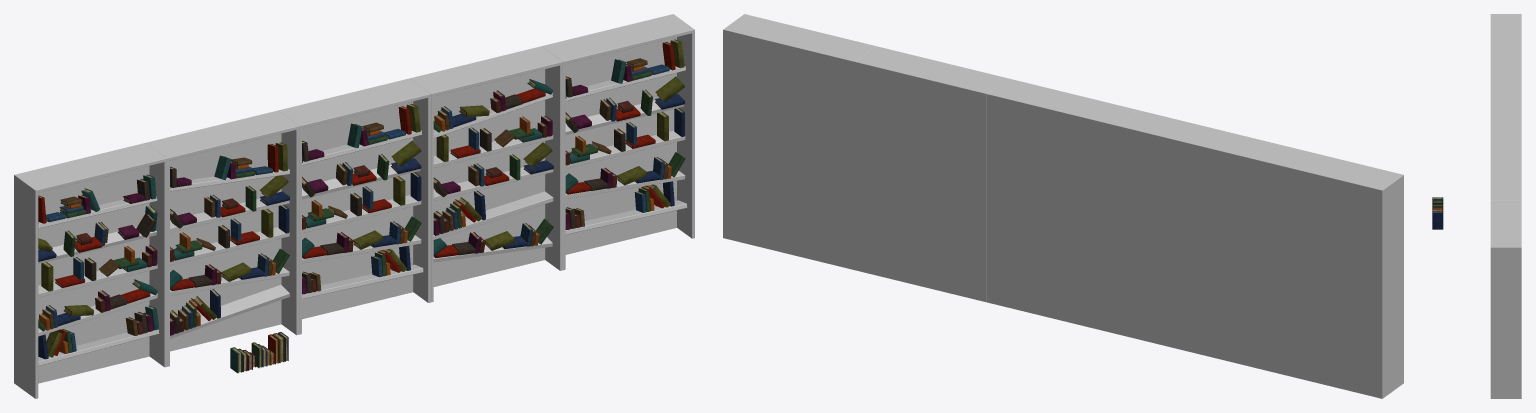
Rendered from bookcase.fbx.
The picture shows the model from 3 angles, left to right: view 1: azimuth 30°, elevation 25°; view 2: azimuth 150°, elevation 25°; view 3: azimuth 270°, elevation 25°; orthographic projection. The views are drawn at different scales.
Parts seen in each view (by area): view 1: polySurface804; view 2: polySurface804; view 3: polySurface804.
Boxes of the visible parts, left/top/right/bottom form: polySurface804: left=14, top=14, right=694, bottom=398; polySurface804: left=723, top=14, right=1403, bottom=398; polySurface804: left=1432, top=14, right=1521, bottom=398.
Size of the model in its own units: 9.02 by 2.73 by 1.46.
